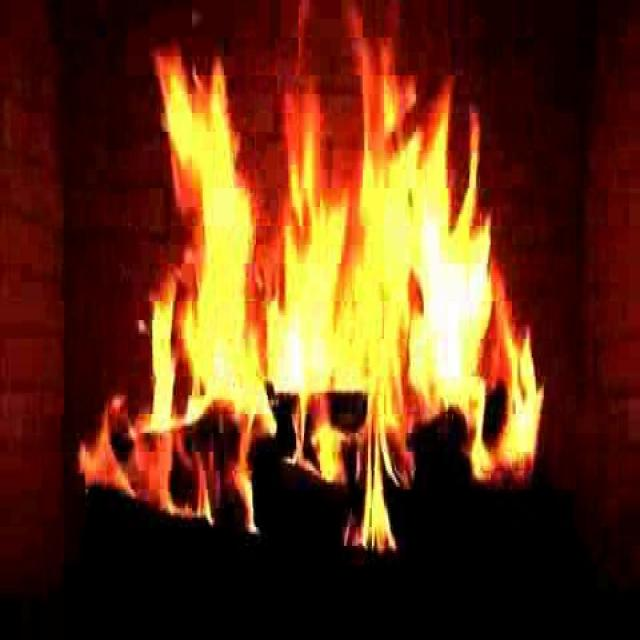Fire: (73, 20, 588, 568)
